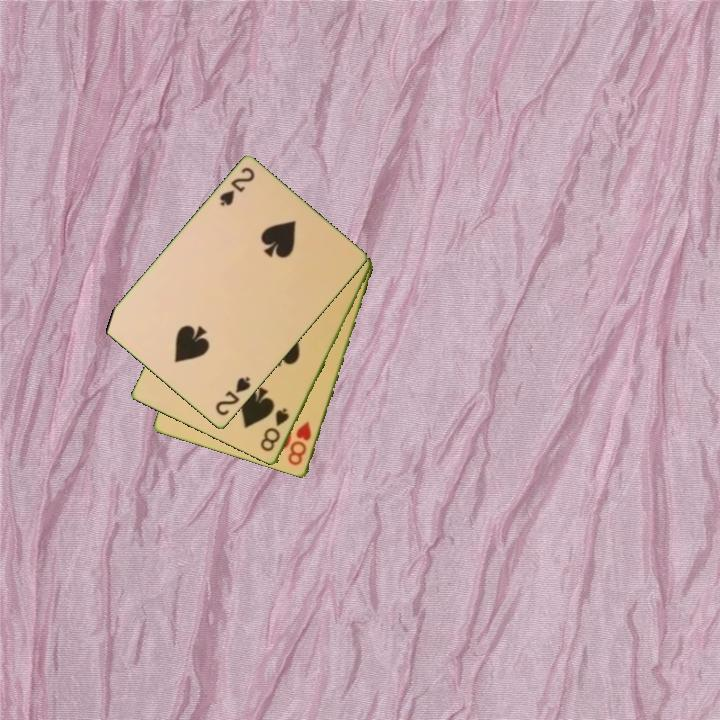2s: (212, 373, 254, 419), (216, 164, 257, 210)
8h: (284, 418, 315, 469)
8s: (257, 405, 292, 455)
